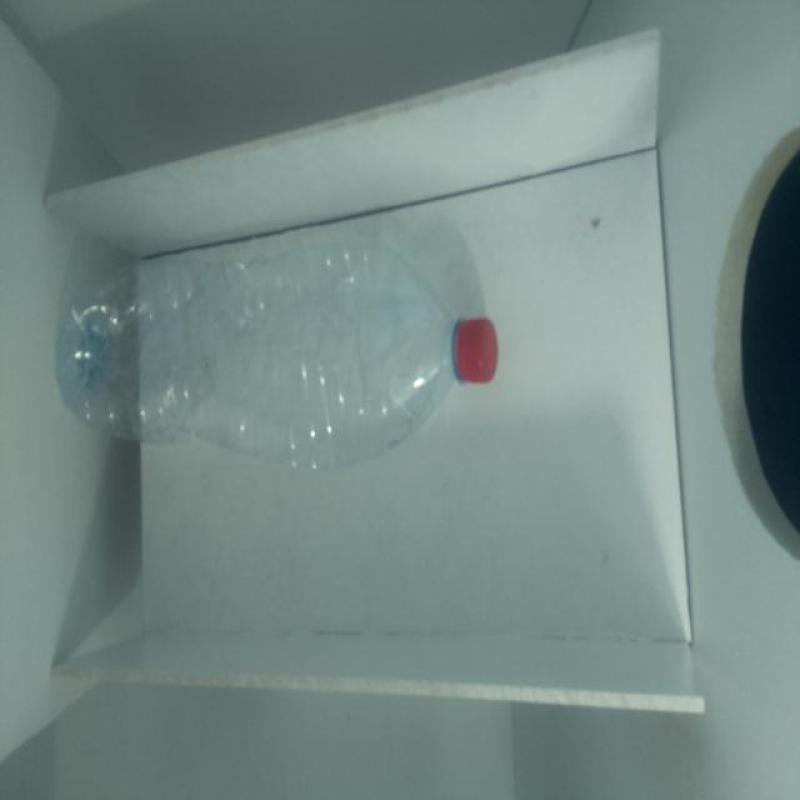botella: (61, 246, 499, 469)
